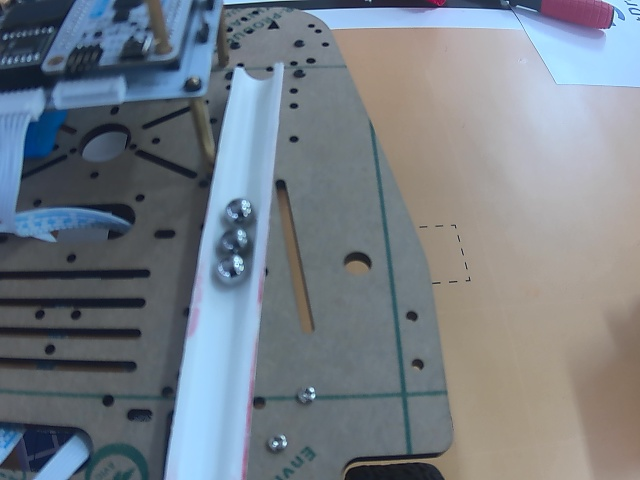steelball: (217, 254, 249, 286), (223, 196, 254, 228), (220, 227, 249, 256)
